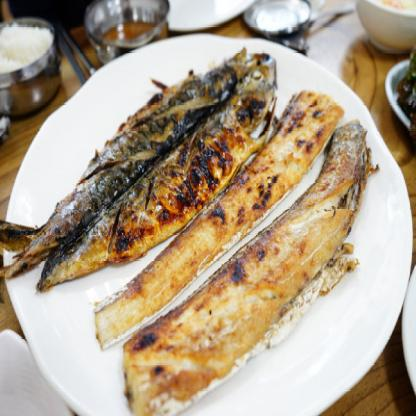Peixe: (0, 50, 277, 243)
